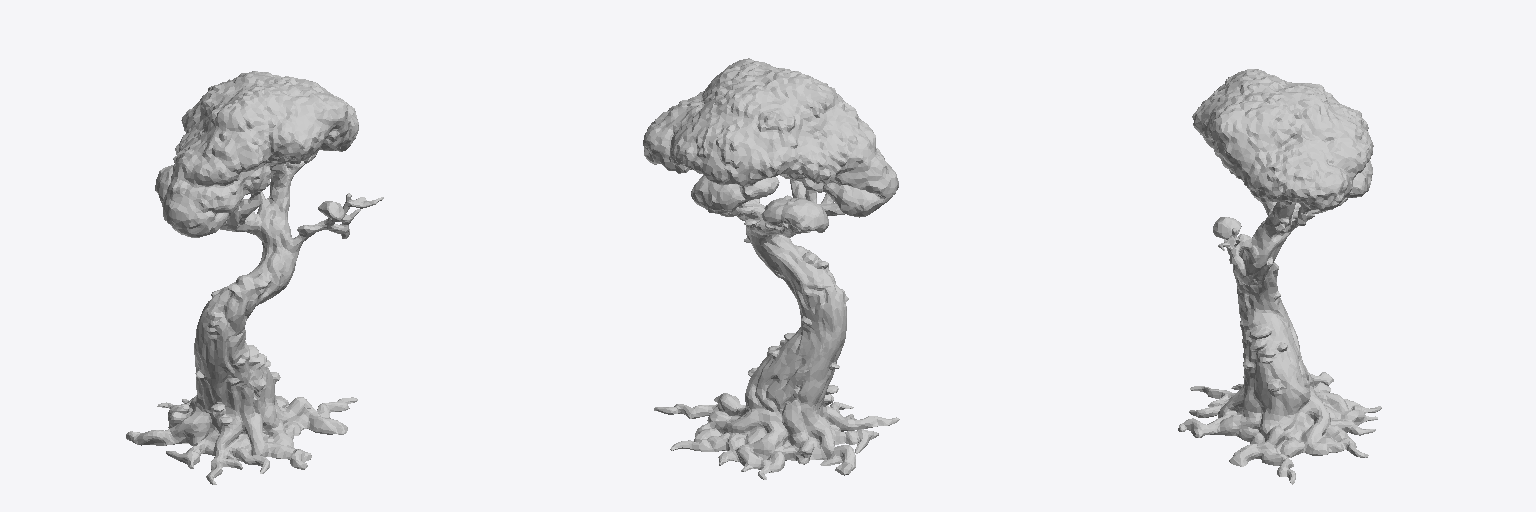
The model's file is KibaArbol.obj.
3 renders of one model, left to right at view 1: azimuth 30°, elevation 25°; view 2: azimuth 150°, elevation 25°; view 3: azimuth 270°, elevation 25°, orthographic.
Parts seen in each view (by area): view 1: Mesh_0; view 2: Mesh_0; view 3: Mesh_0.
Boxes of the visible parts, box(x1,y1,x2,y2) form: Mesh_0: box(126, 71, 383, 484); Mesh_0: box(643, 58, 899, 479); Mesh_0: box(1178, 69, 1381, 484).
Size of the model in its own units: 1.29 by 2 by 1.05.